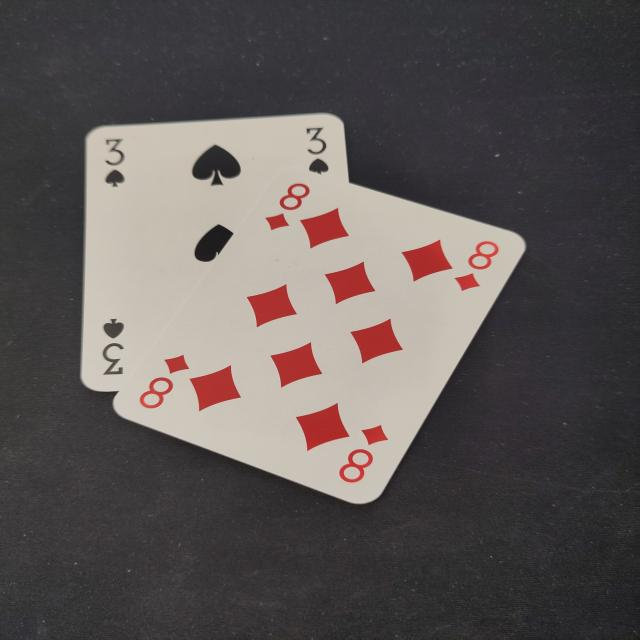3s: (94, 314, 135, 384), (299, 123, 337, 181), (97, 133, 132, 191)
8d: (448, 235, 514, 297), (134, 350, 195, 416), (335, 420, 392, 486), (256, 178, 311, 236)
